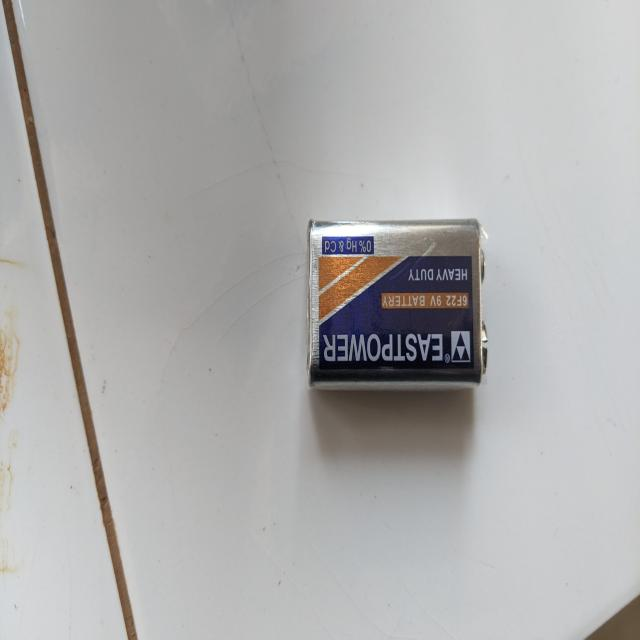Dry Cell: (301, 211, 496, 412)
